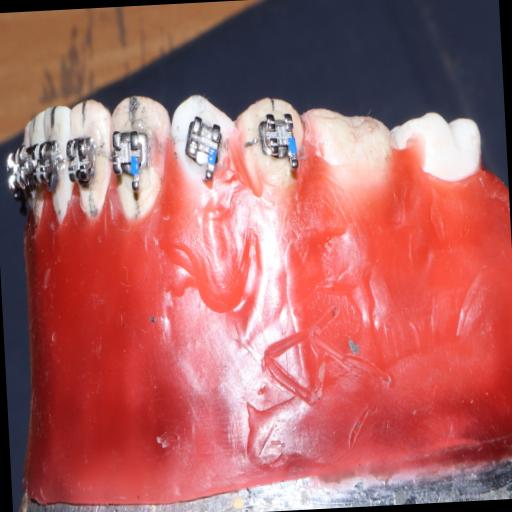correct_brace: (168, 93, 242, 204)
incorrect_brace: (184, 118, 226, 166)
